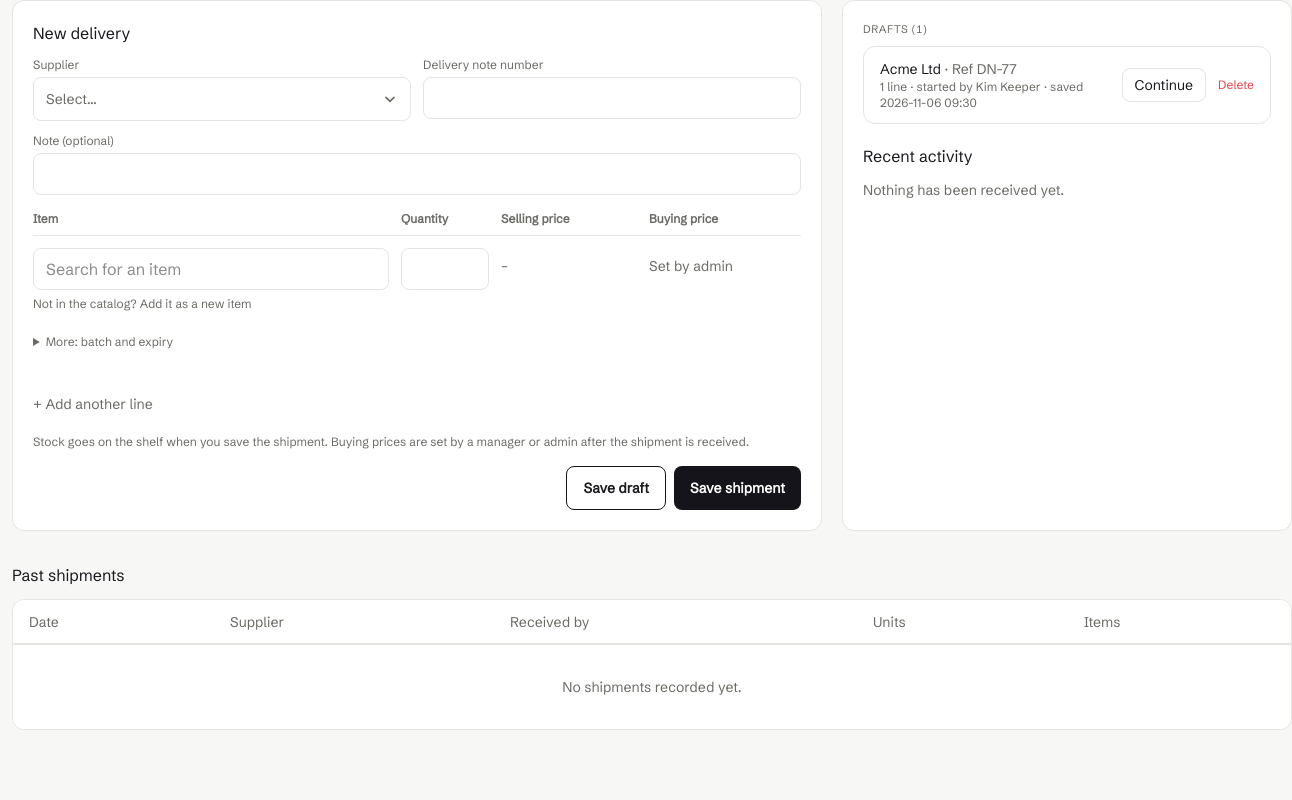
Receive form › reopens a draft as it was left
What coordinates should you click on to do the following:
click the button "Continue"
I would click on:
 (1164, 84)
Its box is left=1122, top=68, right=1206, bottom=102.
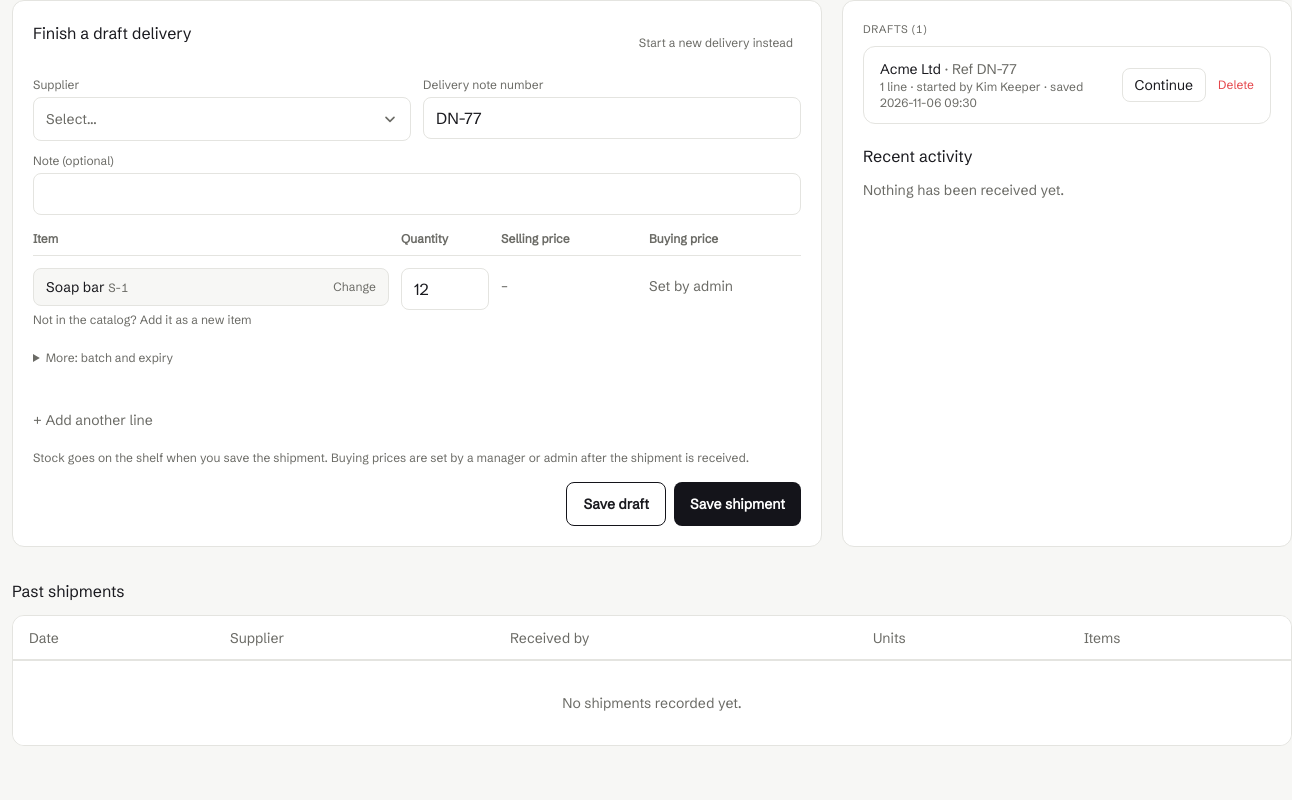
Result: the heading "Finish a draft delivery" is shown at left=33, top=21, right=192, bottom=45
Result: the field showing "DN-77" is shown at left=423, top=97, right=801, bottom=139
Result: the text "Soap bar" is shown at left=46, top=278, right=105, bottom=296
